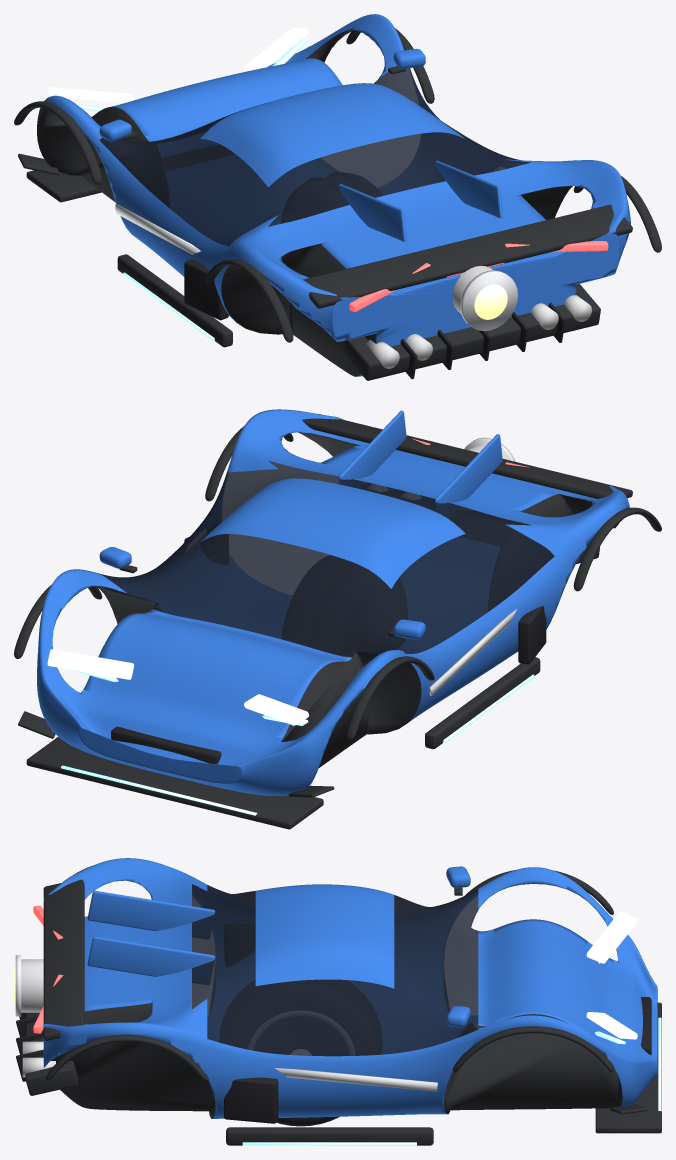
The model's file is specter.glb.
3 renders of one model, top to bottom at view 1: azimuth 30°, elevation 25°; view 2: azimuth 150°, elevation 25°; view 3: azimuth 270°, elevation 25°, orthographic. The views are drawn at different scales.
Visible parts, largest first — view 1: Body; view 2: Body, Wheel; view 3: Body, Wheel.
Part boxes in pixels (x1,y1,x2,y2): Body: [14, 14, 661, 380]; Body: [14, 409, 661, 829]; Wheel: [283, 555, 407, 655]; Body: [14, 858, 661, 1145]; Wheel: [220, 980, 381, 1126].
Bounding box in the file's own units: 1.02 × 0.5562 × 1.56.
